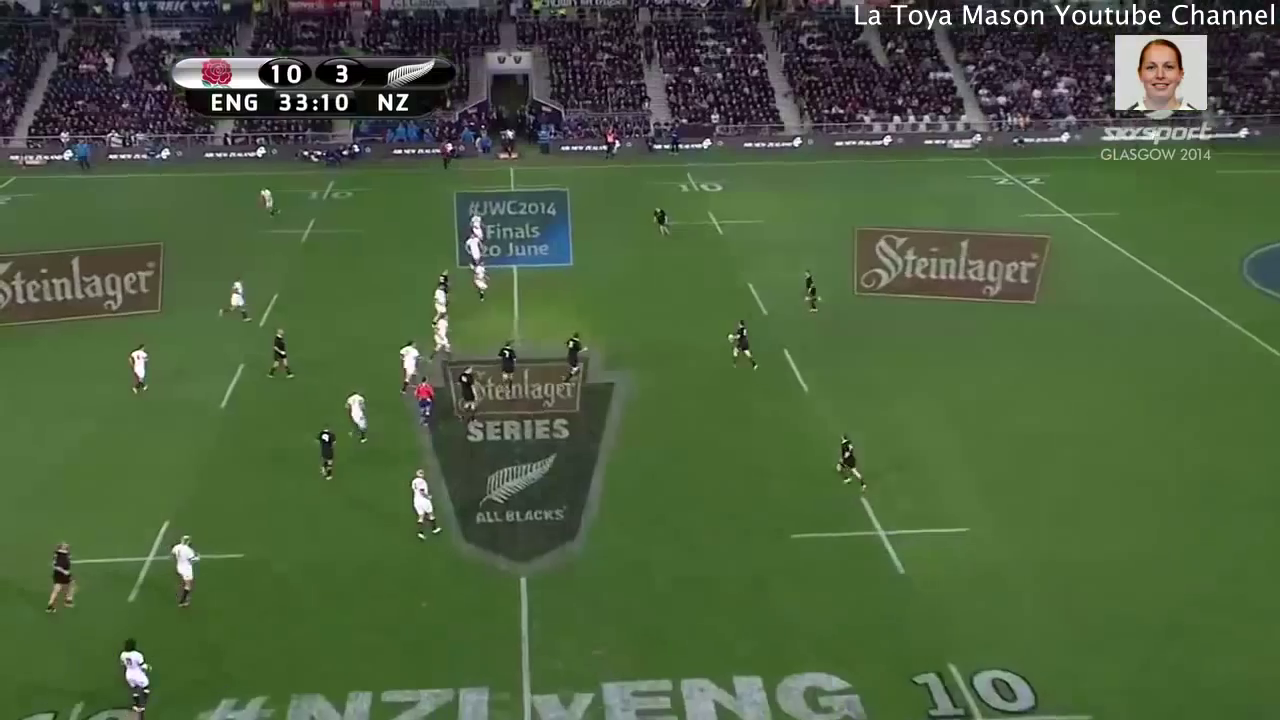10_metre: (52, 514, 248, 611), (785, 488, 976, 580), (901, 656, 1096, 720), (663, 204, 777, 241), (254, 213, 365, 248), (275, 176, 377, 204), (651, 171, 745, 198)
ball: (725, 330, 736, 344)
post: (114, 634, 161, 716), (42, 538, 83, 616), (167, 531, 206, 611), (406, 466, 447, 542), (830, 429, 873, 494), (723, 318, 763, 377), (341, 387, 377, 447), (214, 275, 254, 328), (123, 343, 159, 397), (410, 373, 440, 433), (266, 325, 297, 380), (313, 423, 341, 483), (457, 360, 481, 428), (561, 328, 589, 385), (398, 336, 424, 396), (495, 338, 521, 392), (429, 312, 452, 363), (799, 266, 823, 314), (257, 185, 286, 223), (469, 260, 492, 306), (650, 203, 673, 236), (464, 234, 489, 263), (432, 283, 448, 325), (434, 267, 452, 294), (469, 212, 484, 241)
